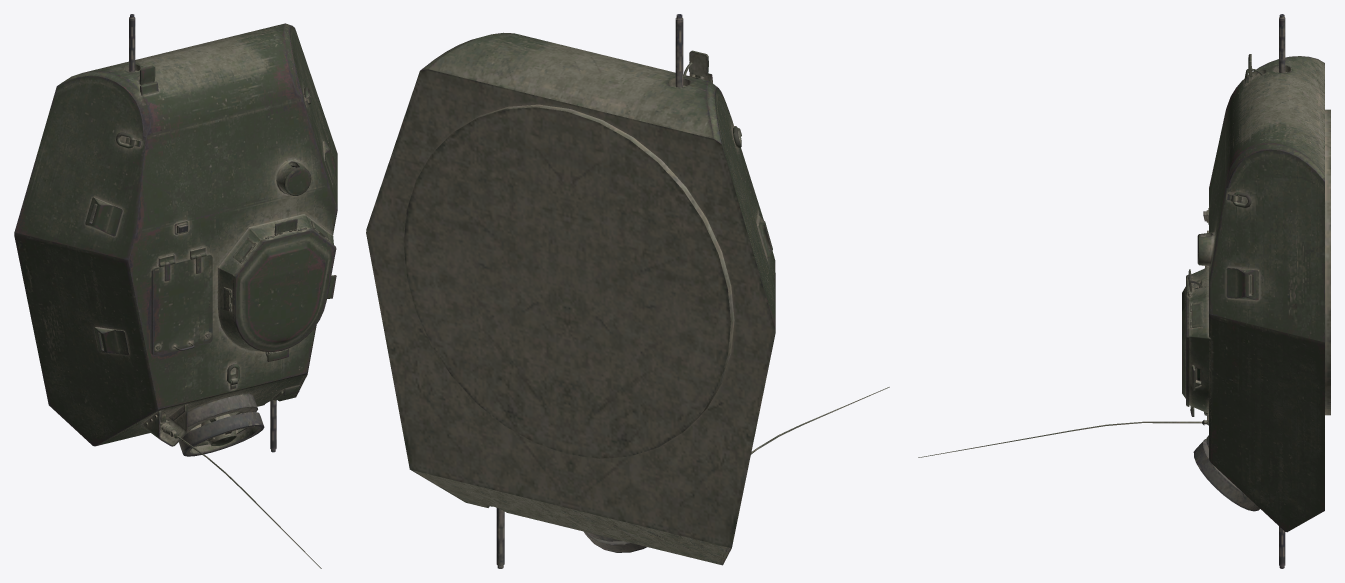
File: Turret_01.glb
3 renders of one model, left to right at view 1: azimuth 30°, elevation 25°; view 2: azimuth 150°, elevation 25°; view 3: azimuth 270°, elevation 25°, orthographic. The views are drawn at different scales.
Visible parts, largest first — view 1: set_0_group_0; view 2: set_0_group_0; view 3: set_0_group_0.
Part boxes in pixels (x1,y1,x2,y2): set_0_group_0: [14, 14, 337, 568]; set_0_group_0: [366, 14, 889, 568]; set_0_group_0: [918, 14, 1330, 568].
Size of the model in its own units: 2.62 by 3.64 by 2.82.
Materials: 1 (1 with a texture image).
